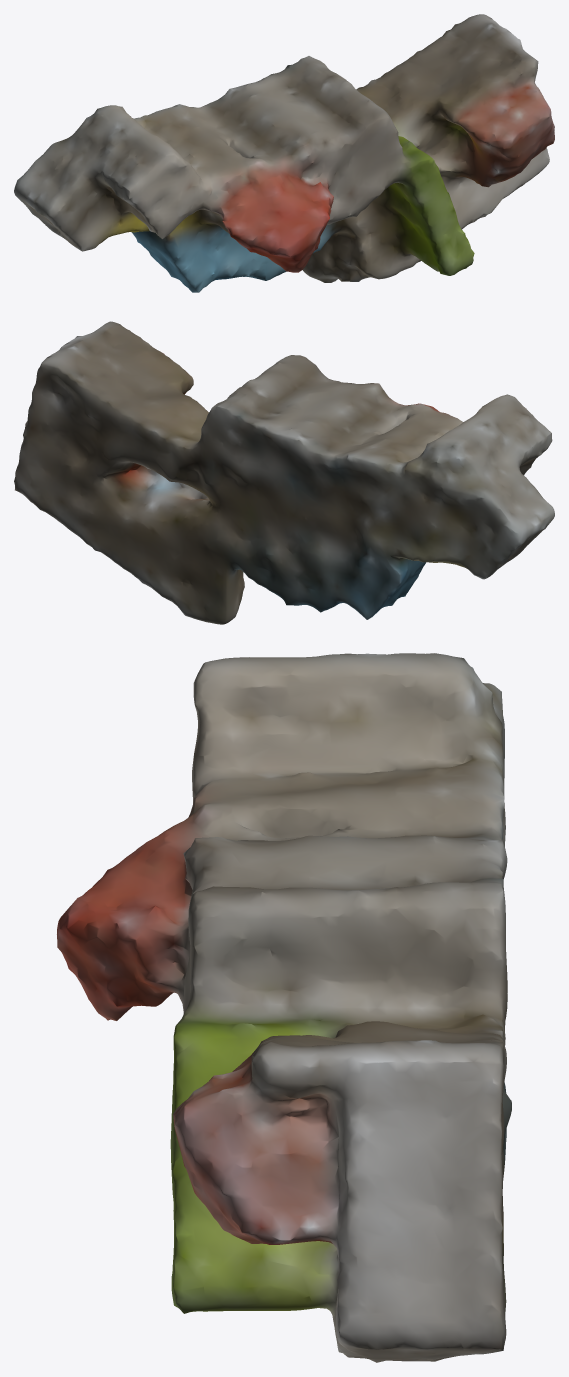
Rendered from blocks.glb.
The picture shows the model from 3 angles, top to bottom: view 1: azimuth 30°, elevation 25°; view 2: azimuth 150°, elevation 25°; view 3: azimuth 270°, elevation 25°; orthographic projection. The views are drawn at different scales.
Size of the model in its own units: 0.9915 by 0.4369 by 0.3917.
